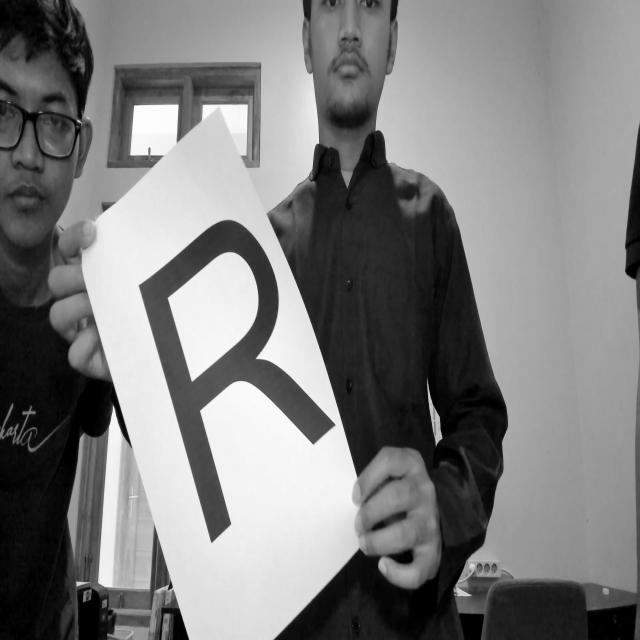r: (126, 202, 342, 540)
